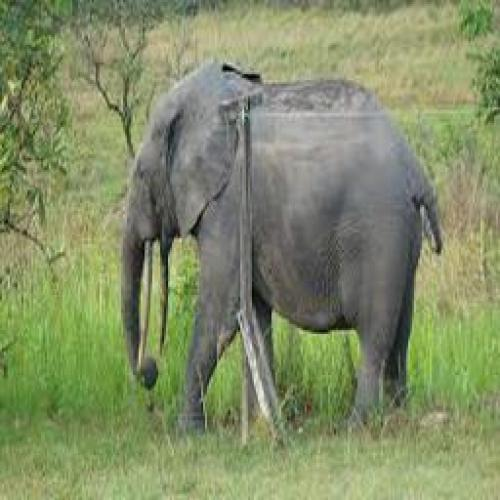african_elephant-endangered: (120, 66, 439, 446)
